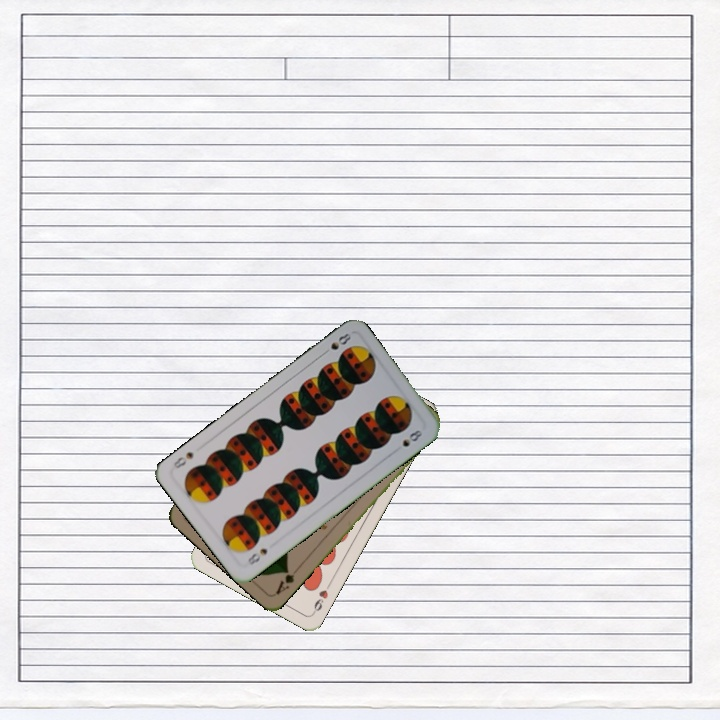GA: (271, 563, 303, 597)
H9: (309, 579, 334, 616)
S8: (318, 328, 354, 358), (244, 544, 270, 568)
